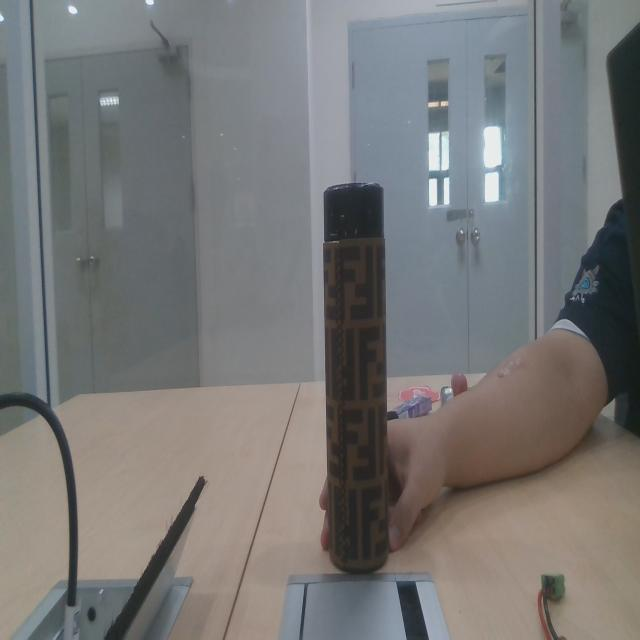Pole: (319, 163, 398, 577)
